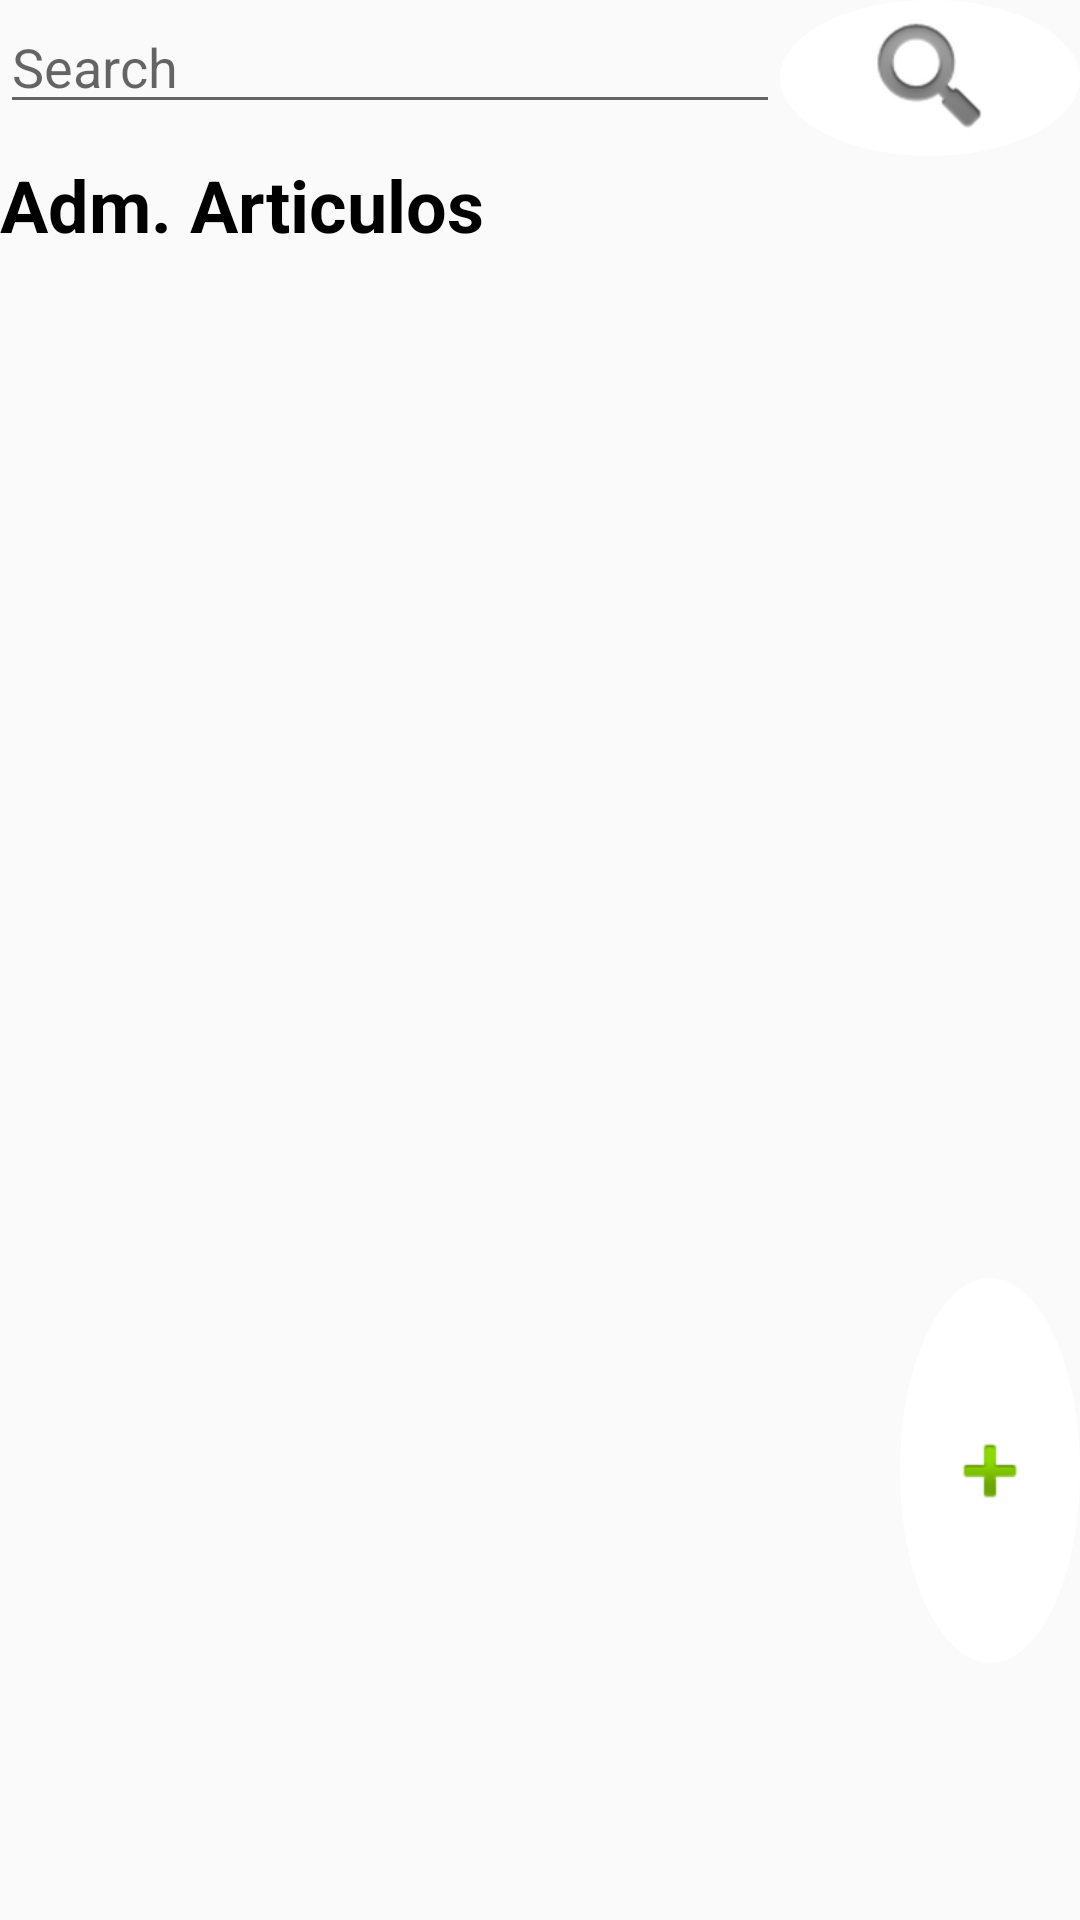

Icon click points for this 1080×1920 phone screenshot, format point (x, y):
add: point (990, 1471)
